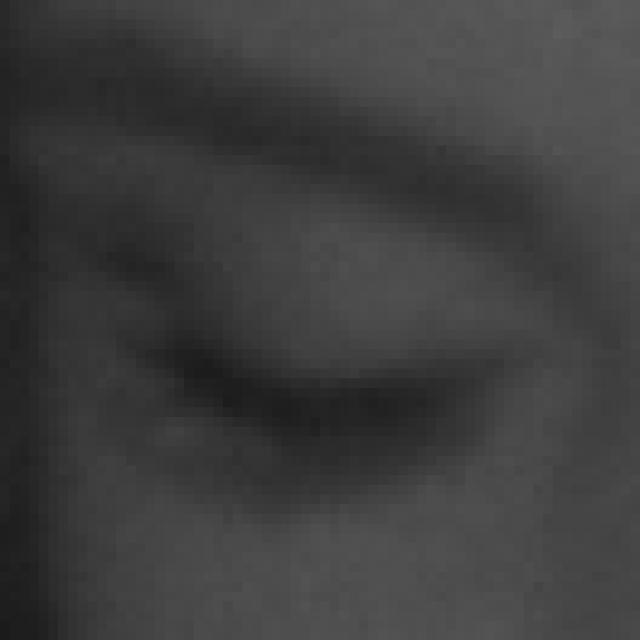Eyeclosed: (107, 187, 501, 609)
